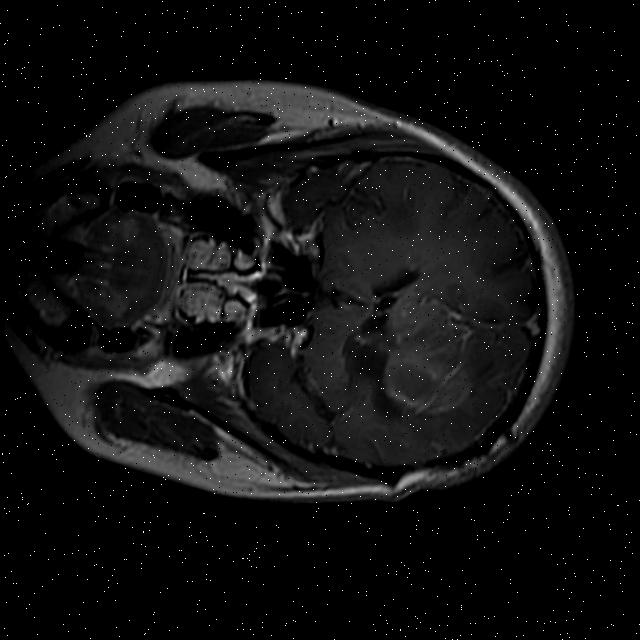Glioma: (373, 337, 477, 425), (385, 285, 443, 342)
